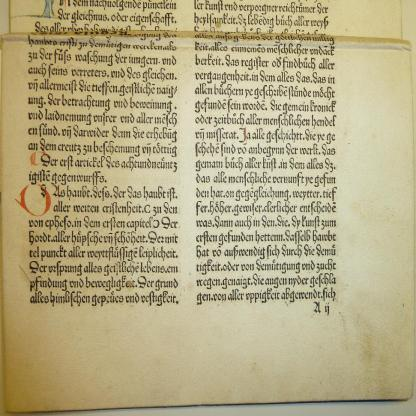book: (0, 8, 416, 398)
